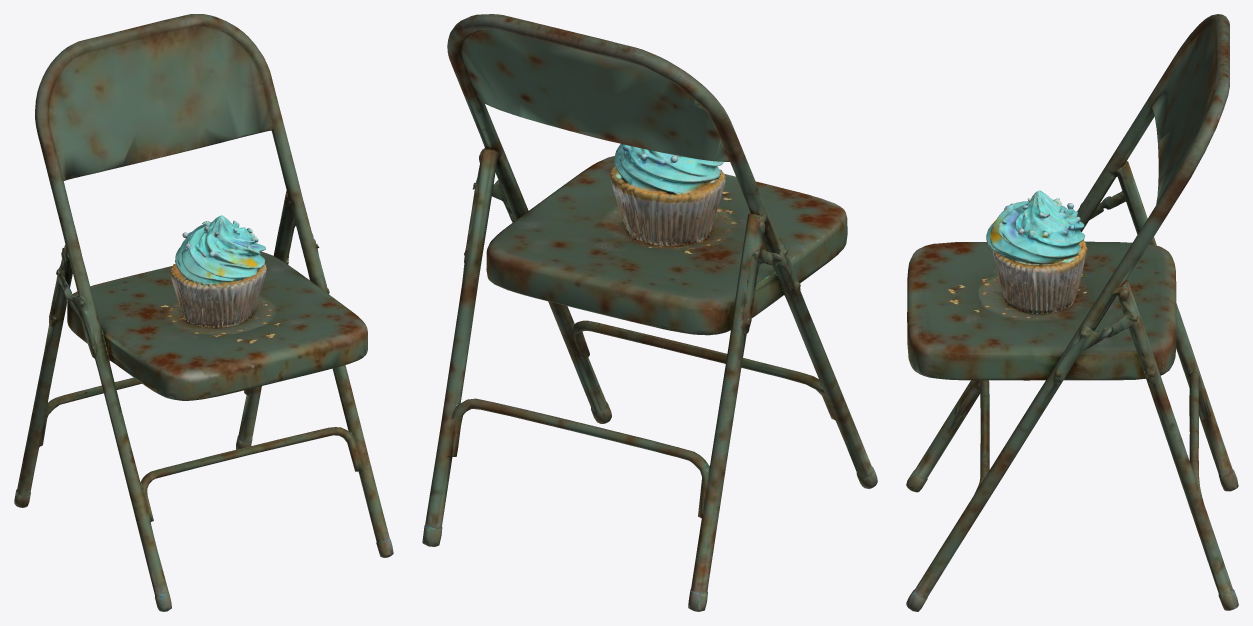
Rendered from cupcake_metal_foldout_chair.glb.
3 renders of one model, left to right at view 1: azimuth 30°, elevation 25°; view 2: azimuth 150°, elevation 25°; view 3: azimuth 270°, elevation 25°, orthographic. The views are drawn at different scales.
Bounding box in the file's own units: 1.14 × 2 × 1.2.
1 material, 1 textured.
